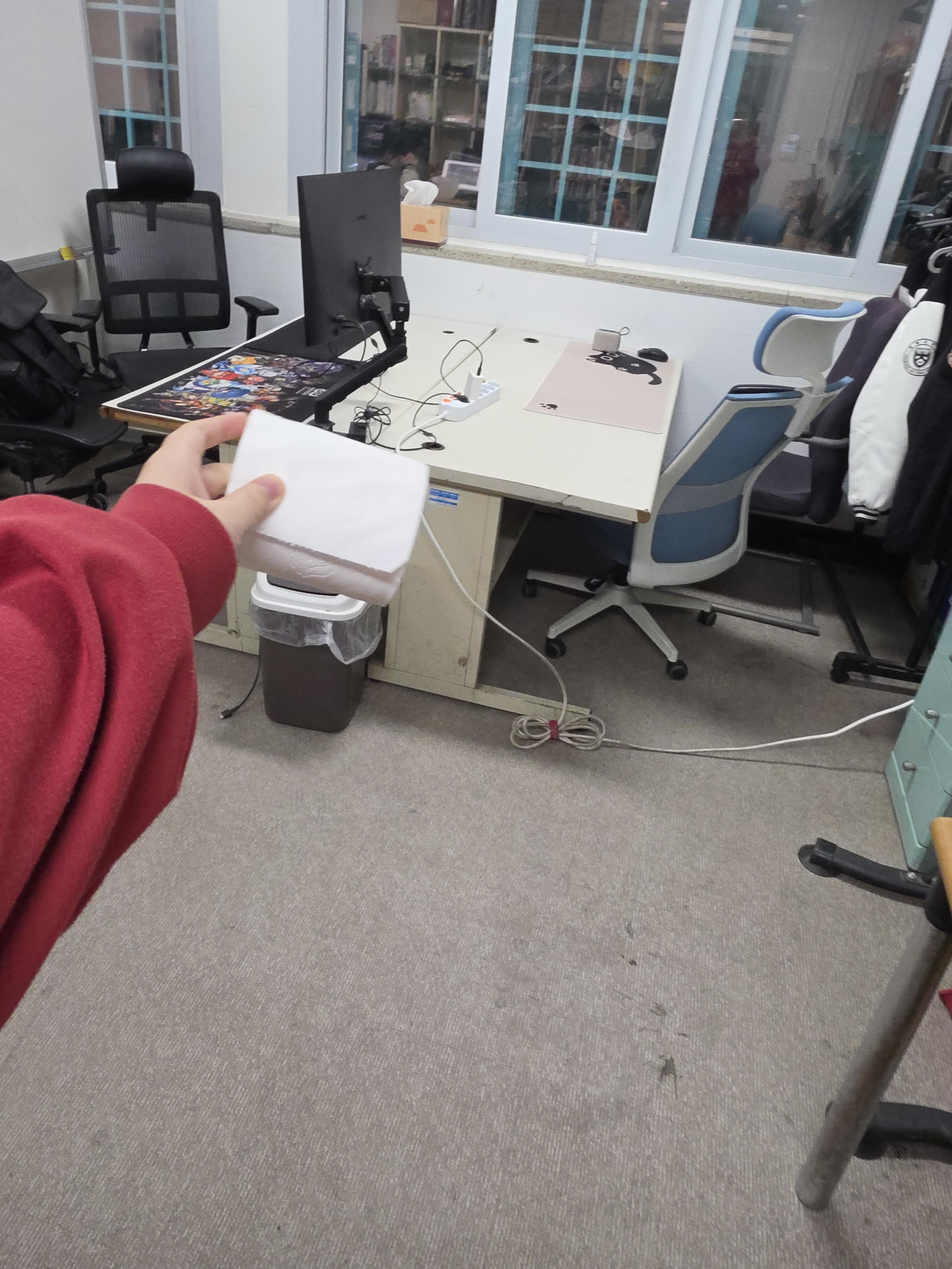tissue: (226, 409, 430, 607), (400, 179, 449, 247)
